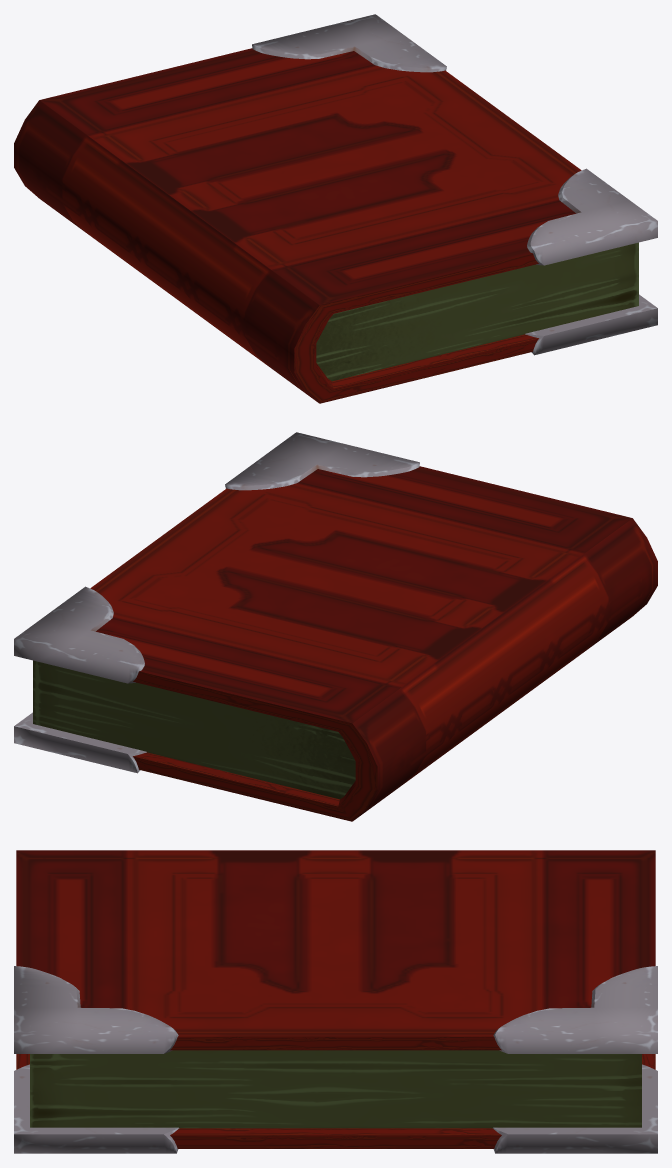
The model's file is book-7.glb.
3 views of the same model, one above another, from view 1: azimuth 30°, elevation 25°; view 2: azimuth 150°, elevation 25°; view 3: azimuth 270°, elevation 25° (orthographic). The views are drawn at different scales.
Parts seen in each view (by area): view 1: Book_7; view 2: Book_7; view 3: Book_7.
Boxes of the visible parts, x1,y1,x2,y2 form: Book_7: (14,14,657,403); Book_7: (14,432,657,821); Book_7: (14,850,657,1153).
Size of the model in its own units: 0.247 by 0.0679 by 0.3333.
2 materials, 2 textured.
